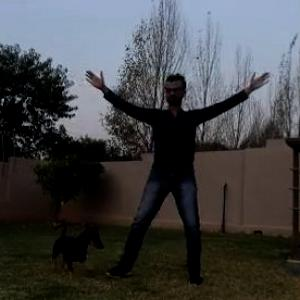takeoff: (94, 64, 272, 281)
